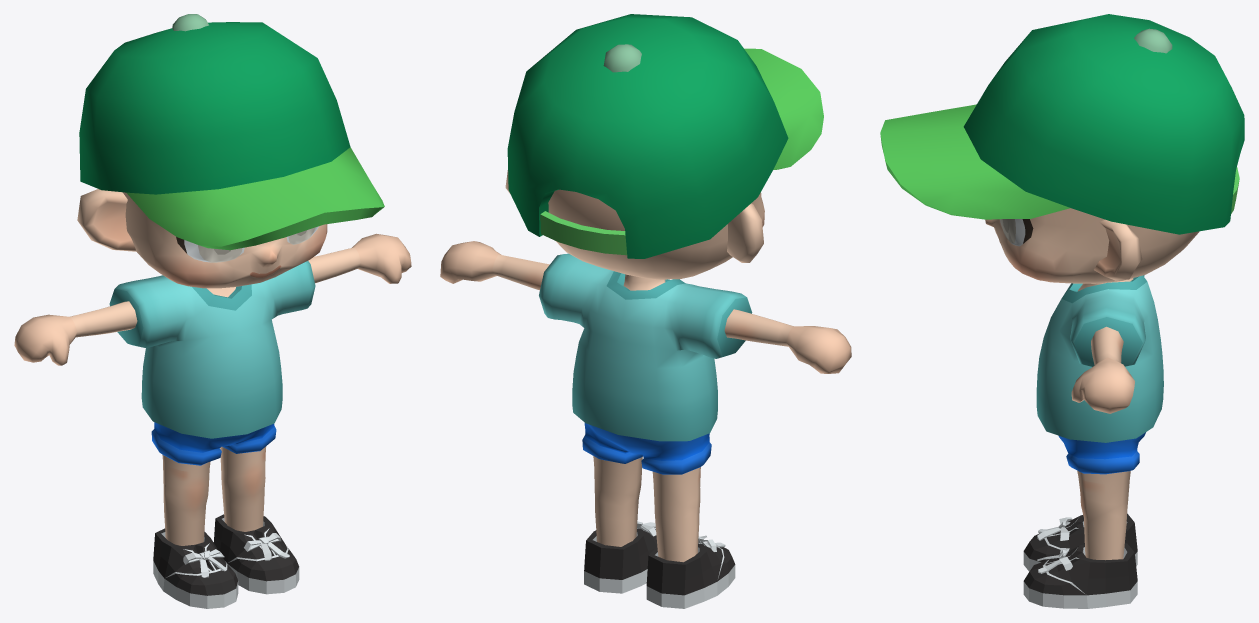
The model's file is Buyer 5.fbx.
The picture shows the model from 3 angles, left to right: view 1: azimuth 30°, elevation 25°; view 2: azimuth 150°, elevation 25°; view 3: azimuth 270°, elevation 25°; orthographic projection. The views are drawn at different scales.
Visible parts, largest first — view 1: Headgear_1.004, Top_4.003, Face_A1.006, Shoes_1.003, Body_ArmA_1.017, Body_LegB_2.016, Bottom_4.003; view 2: Headgear_1.004, Top_4.003, Shoes_1.003, Body_LegB_2.016, Face_A1.006, Body_ArmA_1.017, Bottom_4.003; view 3: Headgear_1.004, Top_4.003, Face_A1.006, Shoes_1.003, Body_LegB_2.016, Body_ArmA_1.017, Bottom_4.003.
Part boxes in pixels (x1,y1,x2,y2): Headgear_1.004: [79, 14, 384, 250]; Top_4.003: [109, 261, 315, 438]; Face_A1.006: [77, 189, 327, 288]; Shoes_1.003: [153, 514, 299, 608]; Body_ArmA_1.017: [14, 233, 411, 365]; Body_LegB_2.016: [162, 446, 266, 545]; Bottom_4.003: [151, 422, 276, 465]; Headgear_1.004: [507, 14, 823, 258]; Top_4.003: [539, 253, 752, 441]; Shoes_1.003: [584, 521, 735, 608]; Body_LegB_2.016: [593, 456, 700, 562]; Face_A1.006: [505, 170, 764, 279]; Body_ArmA_1.017: [440, 241, 851, 373]; Bottom_4.003: [582, 423, 711, 474]; Headgear_1.004: [880, 14, 1244, 234]; Top_4.003: [1036, 275, 1163, 442]; Face_A1.006: [985, 208, 1199, 283]; Shoes_1.003: [1023, 513, 1137, 608]; Body_LegB_2.016: [1077, 470, 1130, 560]; Body_ArmA_1.017: [1071, 326, 1134, 413]; Bottom_4.003: [1058, 432, 1145, 474].
Size of the model in its own units: 131 by 174 by 104.
